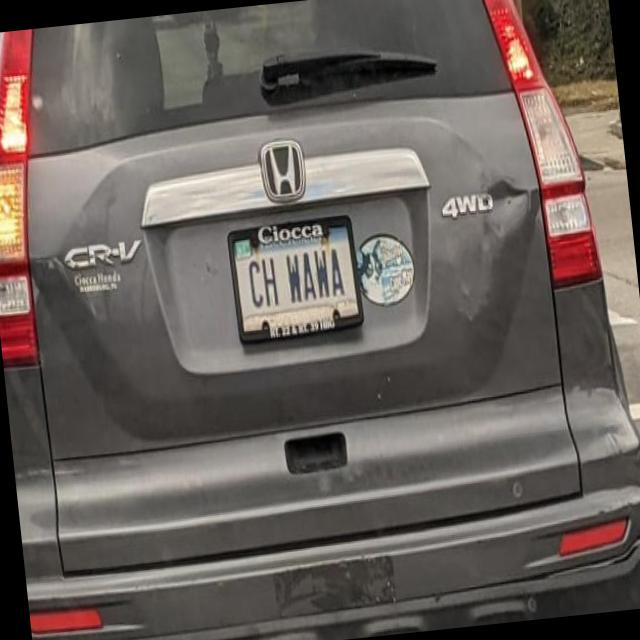LicensePlate: (225, 214, 364, 345)
